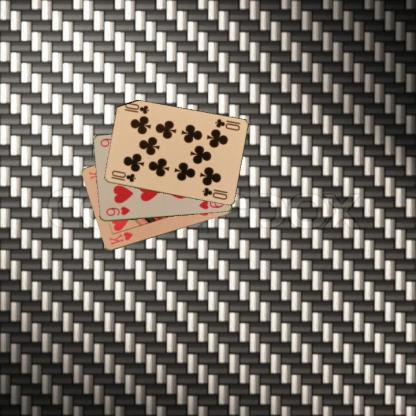10c: (212, 116, 242, 132), (109, 168, 137, 184)
9h: (104, 204, 130, 217)
Kh: (106, 230, 134, 246)
